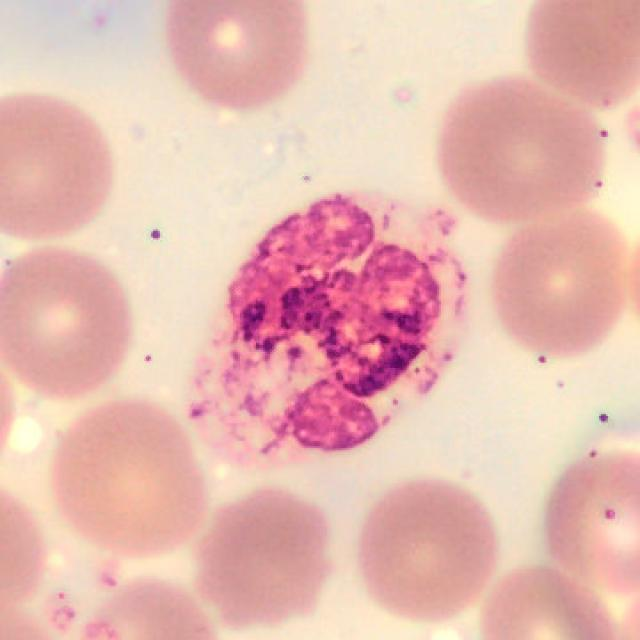Restos celulares: (188, 192, 473, 457)
